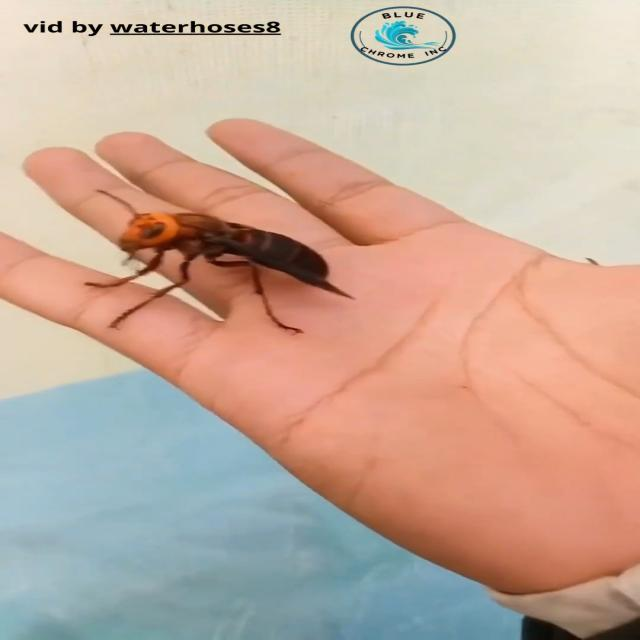Hornets: (89, 187, 358, 335)
